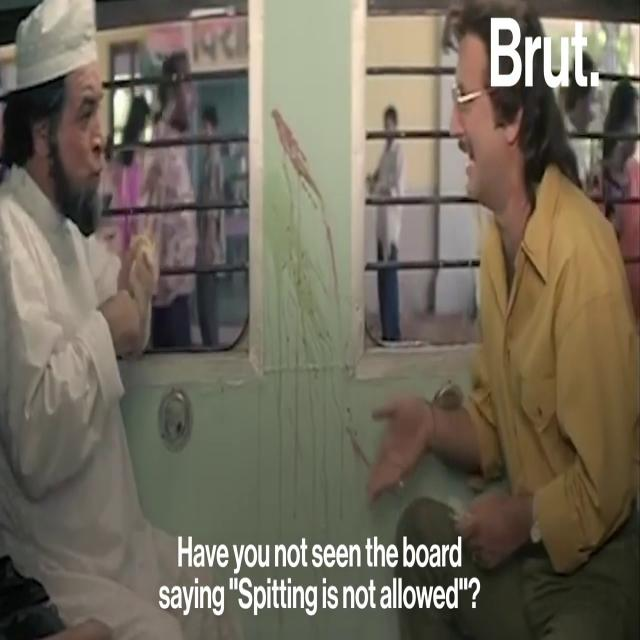spit: (258, 92, 367, 436)
